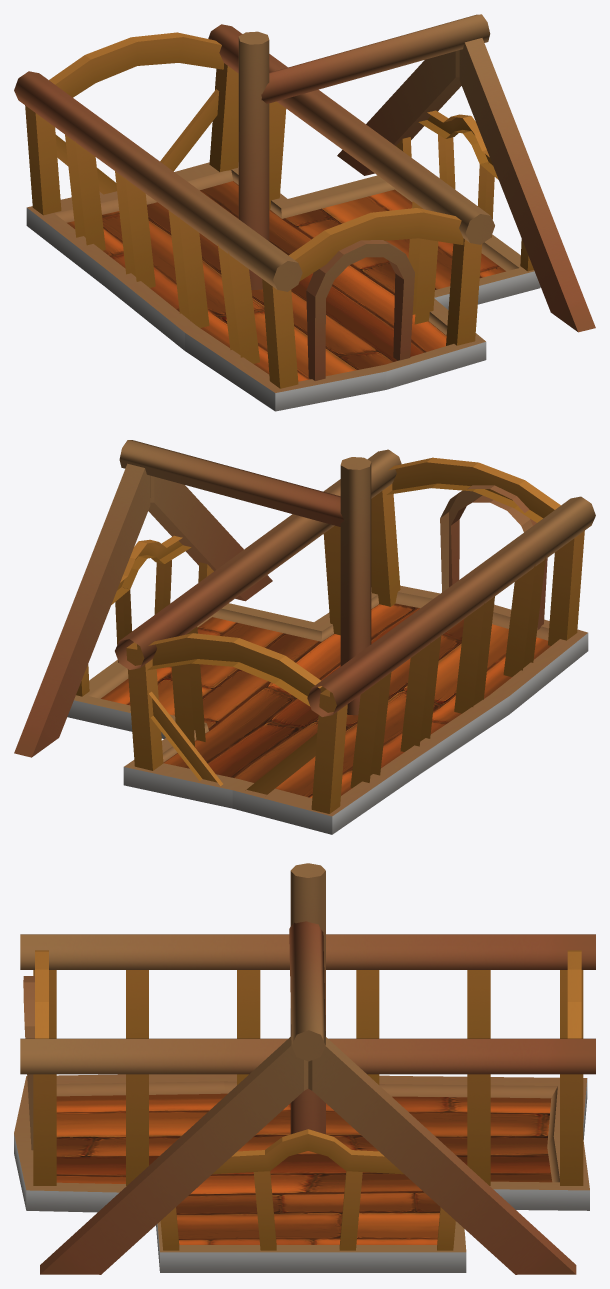
The model's file is VikingHouse_03_L.fbx.
3 renders of one model, top to bottom at view 1: azimuth 30°, elevation 25°; view 2: azimuth 150°, elevation 25°; view 3: azimuth 270°, elevation 25°, orthographic. The views are drawn at different scales.
Parts seen in each view (by area): view 1: VikingHouse_03_L; view 2: VikingHouse_03_L; view 3: VikingHouse_03_L.
Boxes of the visible parts, left/top/right/bottom form: VikingHouse_03_L: left=14, top=14, right=595, bottom=411; VikingHouse_03_L: left=14, top=440, right=595, bottom=834; VikingHouse_03_L: left=14, top=863, right=595, bottom=1274.
Bounding box in the file's own units: 236 × 169 × 314.
